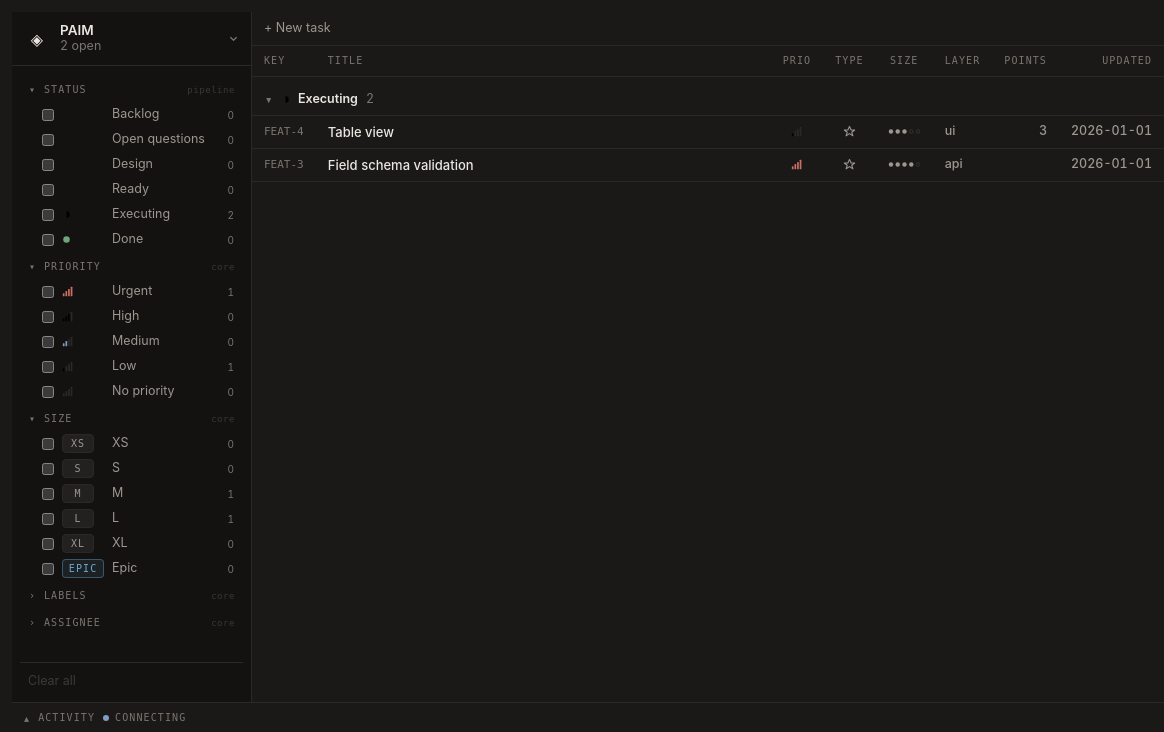
Test: saving › saves a menu choice as soon as it is made
The width and height of the screenshot is (1164, 732).
Click the cell named "Low": (797, 132) [771, 115, 823, 148]
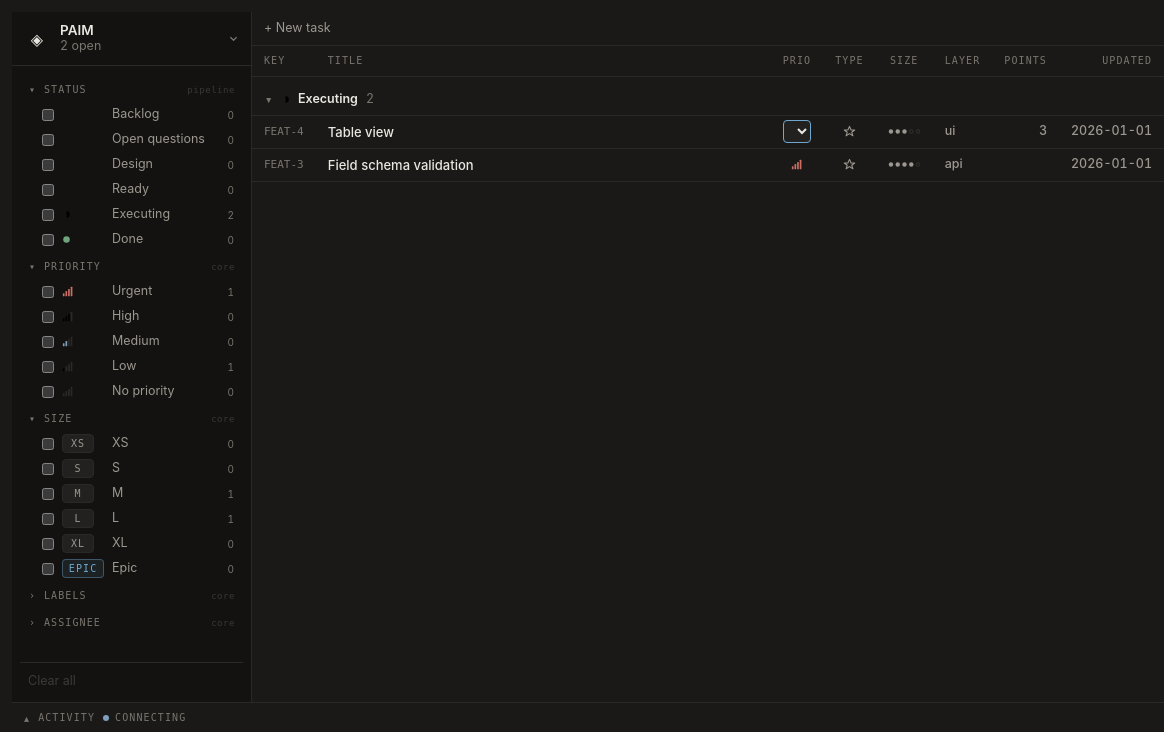
Select "Urgent" in the dropdown named "Prio of FEAT-4": (797, 132) [783, 120, 811, 143]
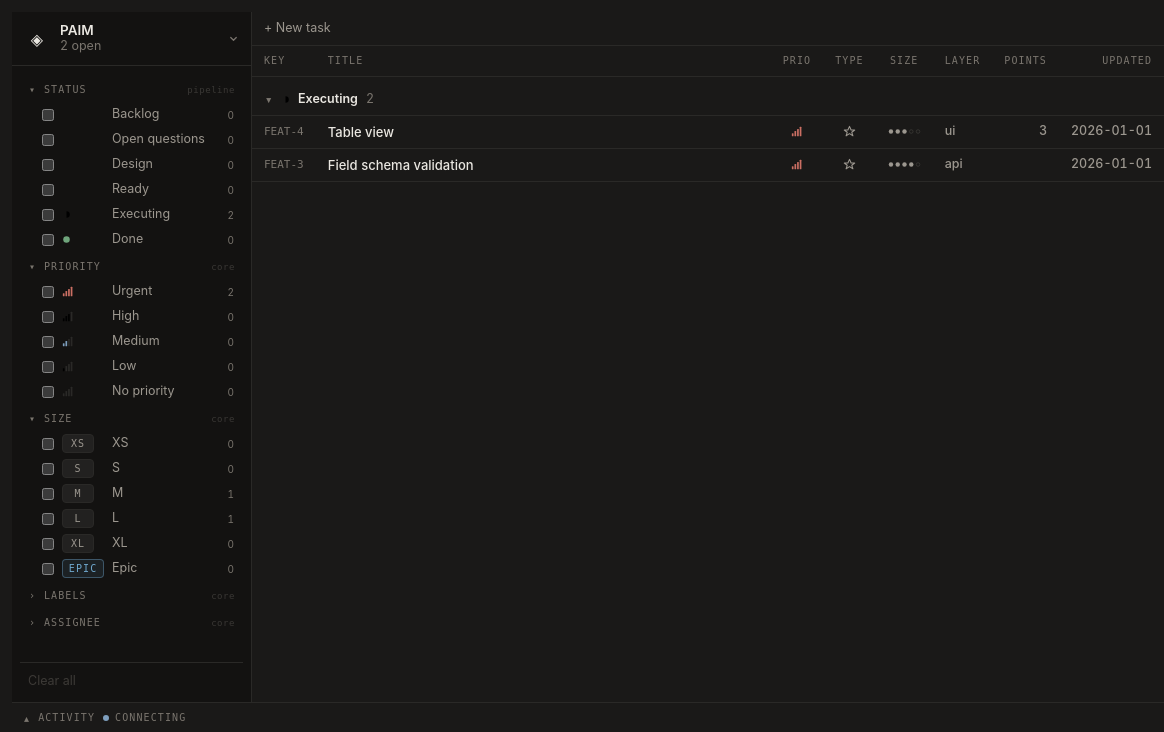
Expected: the picture named "Urgent" in the row of "FEAT-4" is shown, [791, 126, 802, 137]
